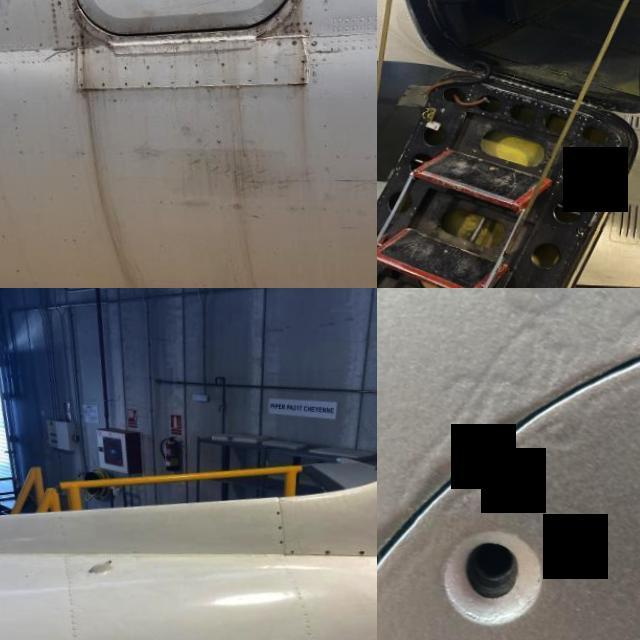Crack: (40, 44, 90, 64)
Missing_Fastener: (398, 471, 603, 640), (326, 546, 334, 554), (362, 548, 368, 552), (278, 509, 282, 514), (282, 539, 287, 543), (294, 548, 298, 551)
